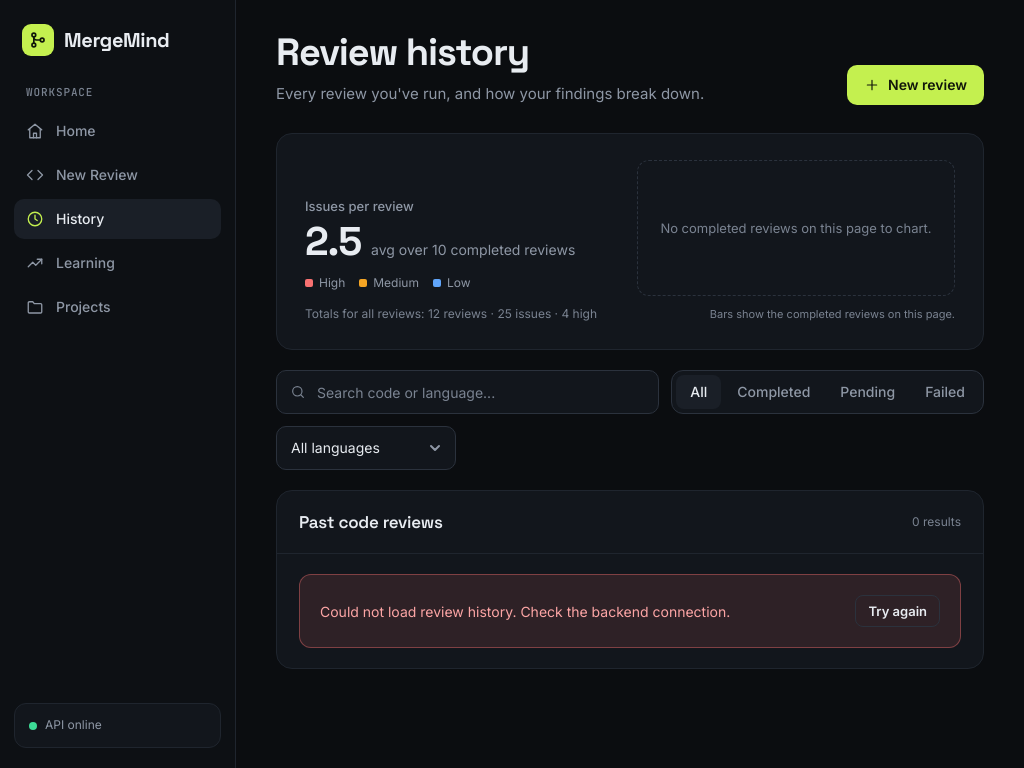
it: Review History (Stage 6) › shows the error state and retries
The width and height of the screenshot is (1024, 768).
Expected: the text "Could not load review history. Check the backend connection." is shown, [320,601,730,622]
Click the button "Try again" at (898, 611), box [855,595,940,627]
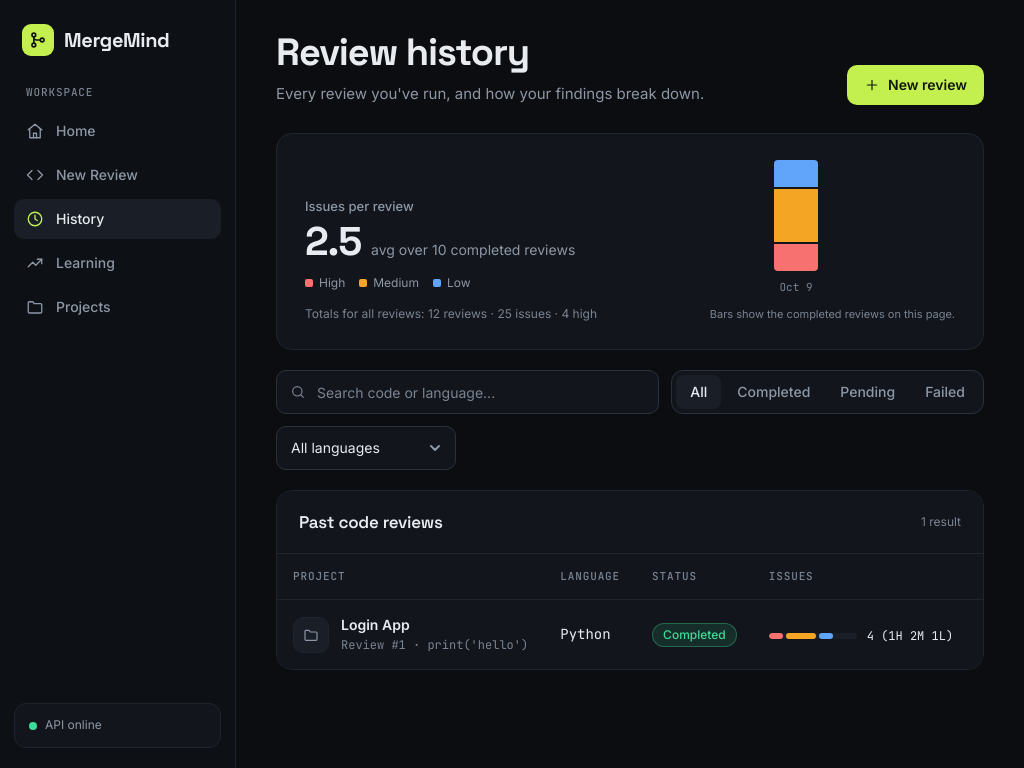
Expected: the text "4 (1H 2M 1L)" is shown, [867,627,953,646]
